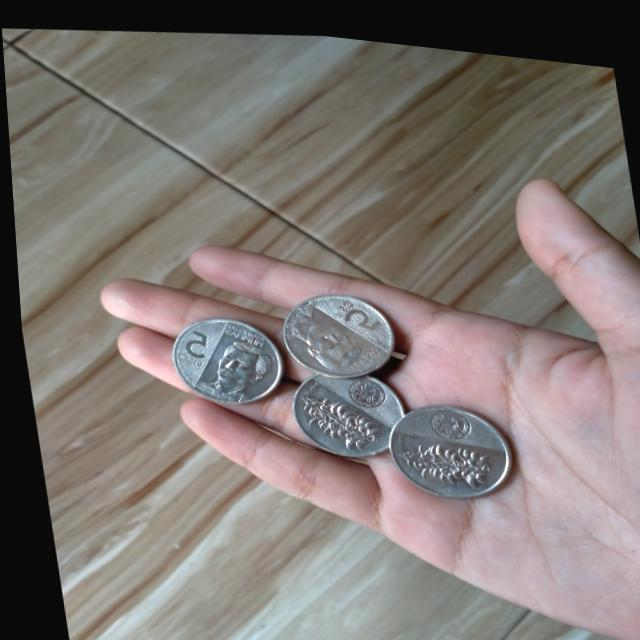5_New_Back: (281, 373, 378, 452), (390, 417, 497, 486)
5_New_Front: (314, 277, 391, 337), (149, 315, 220, 371)
